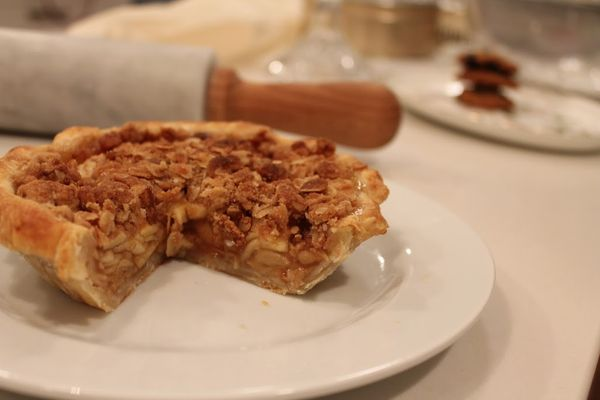curry: (8, 2, 598, 397)
